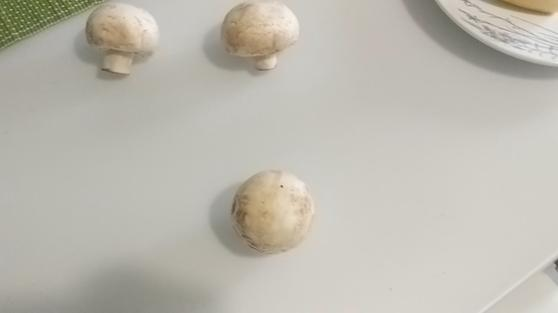champignon: (229, 167, 315, 255), (224, 3, 300, 74), (84, 6, 159, 77)
